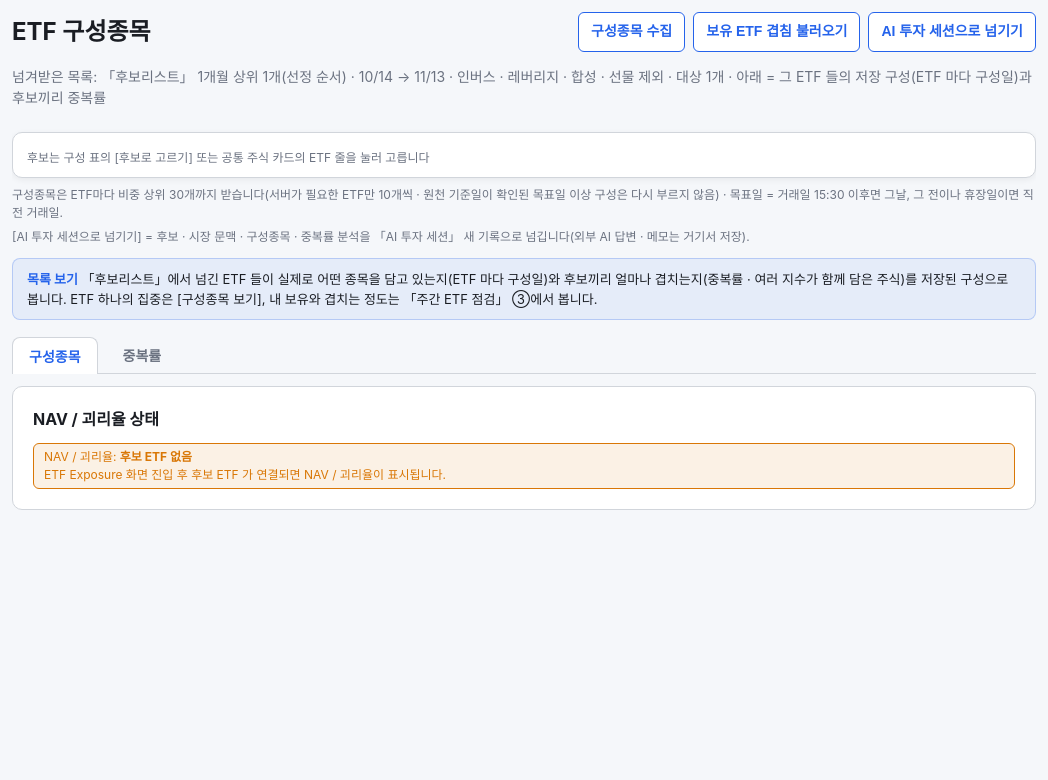
Test: 보유 겹침 카드(판정 Q9 · §9 I-22) — 서버 상위 목록 기준 · 실제 기간 · 상태 글자 한국어 › 목록 모드에서 [보유 ETF 겹침 불러오기] → 카드에 비교 기준 줄
The image size is (1048, 780).
Click the button with test id "exposure-bridge-load" at point(777, 32), box [693, 12, 860, 52]
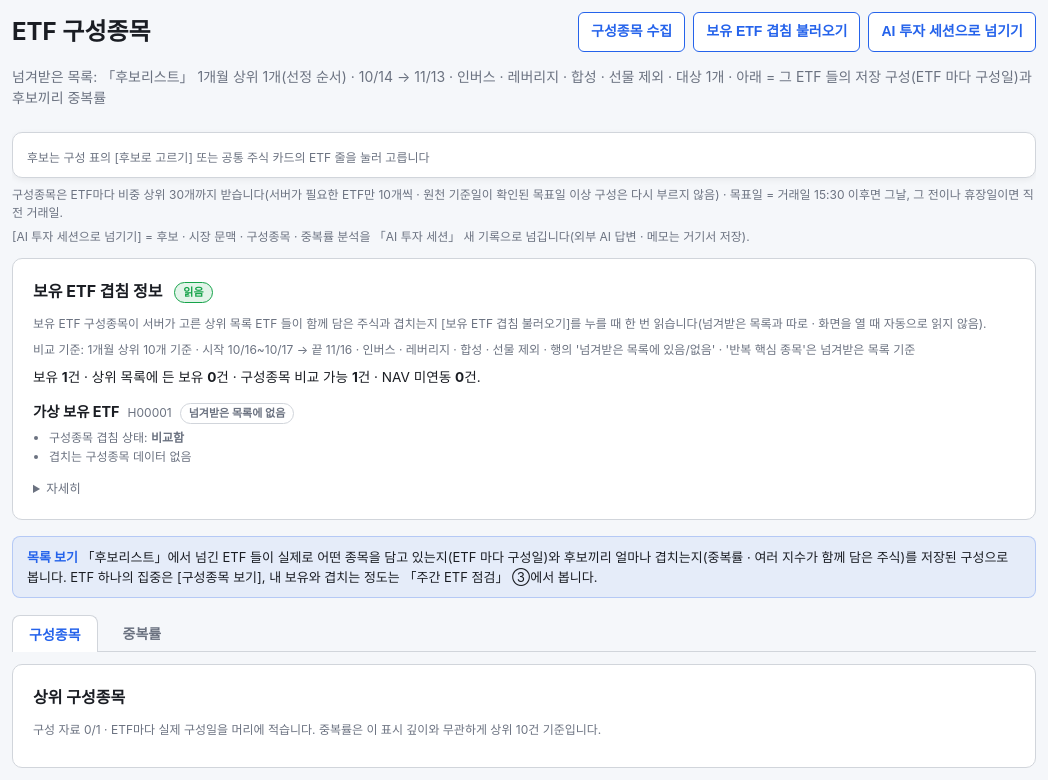
expect the text with test id "bridge-basis" shows "1개월 상위 10개 기준 · 시작 10/16~10/17 → 끝 11/16": met, box [87, 342, 540, 357]
